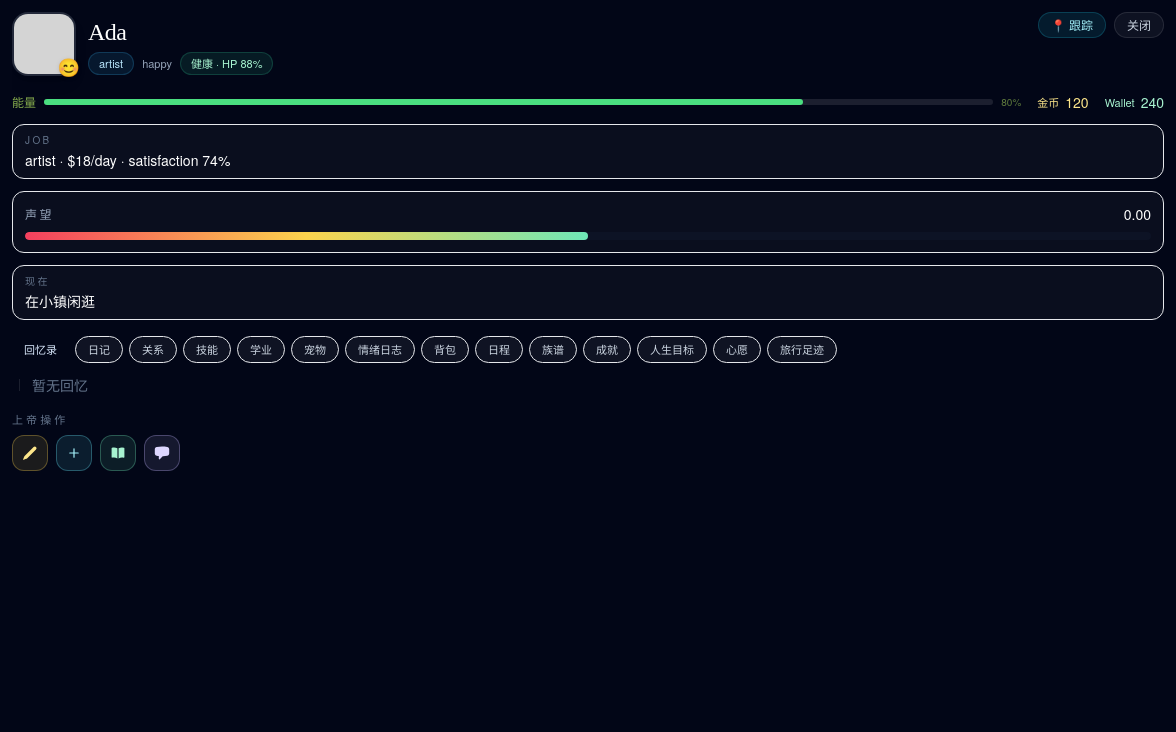
Scenario: resident avatar placements › renders a backpack tab with items and trade action
Click the tab "背包" at x=445, y=349, box [421,336,469,362]
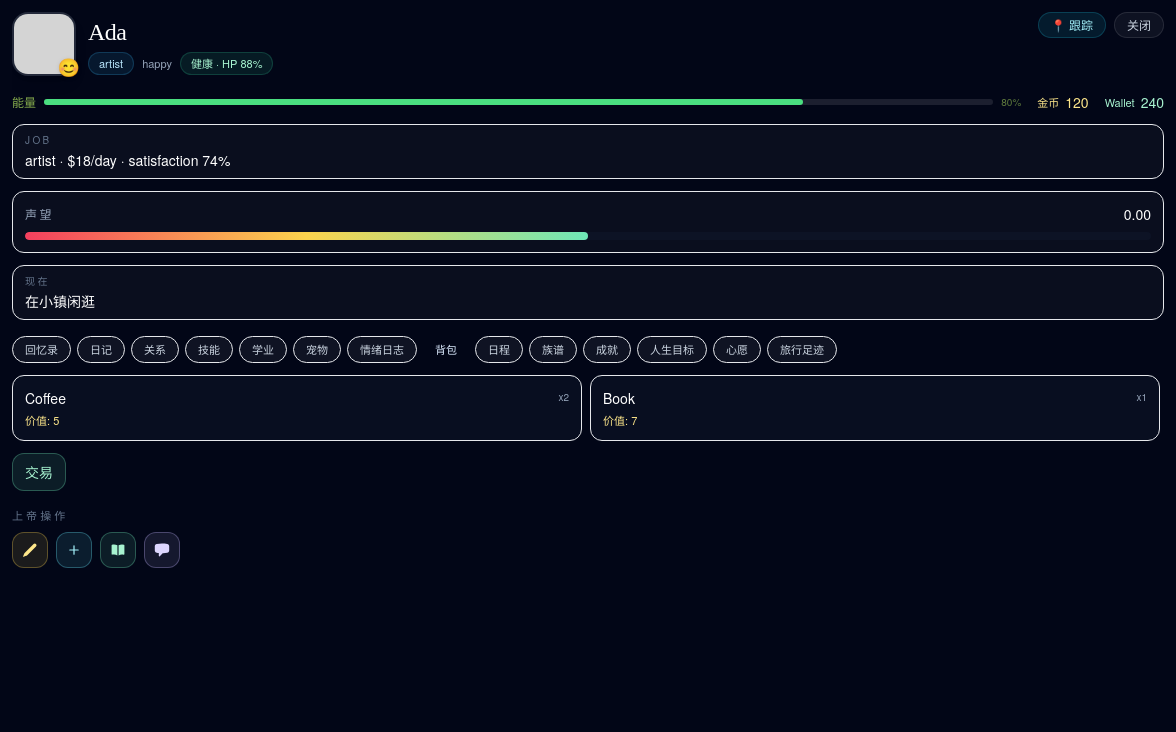
Expected: the text "coffee" is shown, [25,388,66,408]
Expected: the text "book" is shown, [603,388,635,408]
Expected: the button "交易" is shown, [12,453,66,491]
